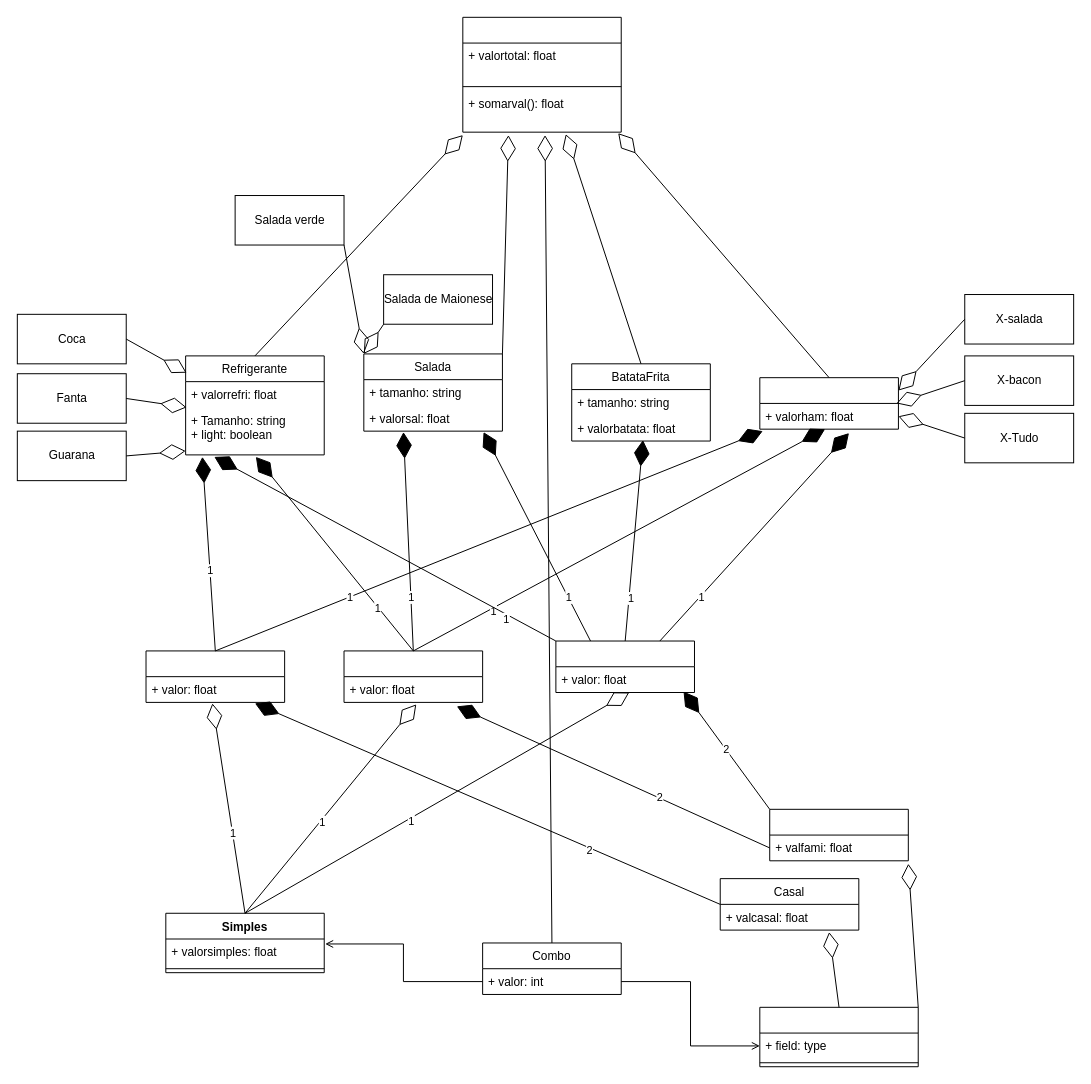
Some shapes in this 1091 by 1084 pixel diagram are drawn without their labels. Each missing label, with the box of its shape:
Carrinho: (462, 16, 621, 132)
Especial: (759, 1006, 918, 1067)
Familia: (769, 808, 908, 861)
Grande: (555, 640, 694, 693)
Hamburguer: (759, 377, 898, 429)
medio: (343, 650, 483, 702)
Pequeno: (145, 650, 285, 702)
